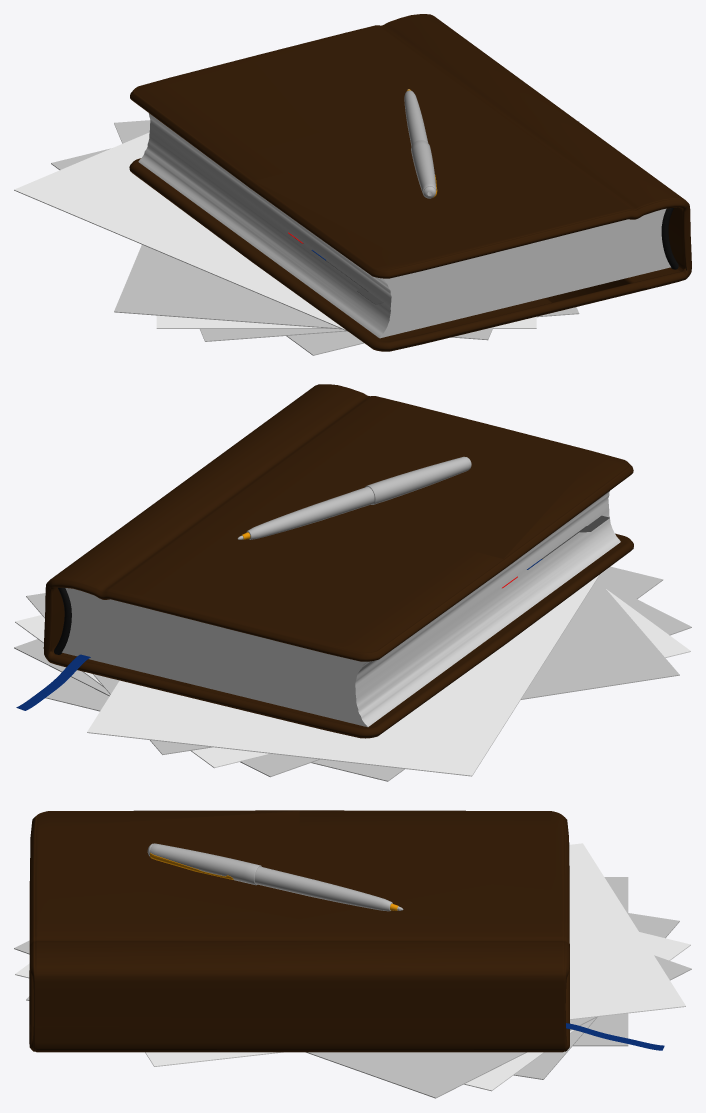
The model's file is Agenda.dae.
3 renders of one model, top to bottom at view 1: azimuth 30°, elevation 25°; view 2: azimuth 150°, elevation 25°; view 3: azimuth 270°, elevation 25°, orthographic. The views are drawn at different scales.
Parts seen in each view (by area): view 1: Component_147, Component_154, Component_146, Component_148, Component_150, Component_149, Component_151, Component_155, Component_156; view 2: Component_147, Component_154, Component_146, Component_148, Component_151, Component_150, Component_149, Component_156, Component_155, Component_153; view 3: Component_147, Component_146, Component_148, Component_156, Component_149, Component_155, Component_150, Component_151, Component_153.
Part boxes in pixels (x1,y1,x2,y2): Component_147: [129, 14, 691, 351]; Component_154: [138, 113, 670, 338]; Component_146: [14, 132, 348, 331]; Component_148: [114, 121, 579, 340]; Component_150: [114, 120, 579, 341]; Component_149: [156, 315, 536, 328]; Component_151: [51, 148, 363, 355]; Component_155: [411, 140, 436, 197]; Component_156: [404, 90, 428, 146]; Component_147: [43, 384, 633, 738]; Component_154: [62, 491, 620, 727]; Component_146: [87, 574, 600, 776]; Component_148: [26, 579, 679, 754]; Component_151: [45, 566, 663, 781]; Component_150: [14, 579, 691, 777]; Component_149: [15, 589, 690, 768]; Component_156: [246, 486, 374, 539]; Component_155: [365, 456, 469, 504]; Component_153: [16, 654, 90, 710]; Component_147: [29, 810, 569, 1052]; Component_146: [145, 843, 685, 1066]; Component_148: [14, 940, 691, 1098]; Component_156: [254, 866, 392, 911]; Component_149: [15, 932, 690, 1091]; Component_155: [150, 843, 261, 885]; Component_150: [26, 912, 679, 1079]; Component_151: [573, 877, 628, 1046]; Component_153: [566, 1023, 664, 1050].
Size of the model in its own units: 538 by 554 by 101.
